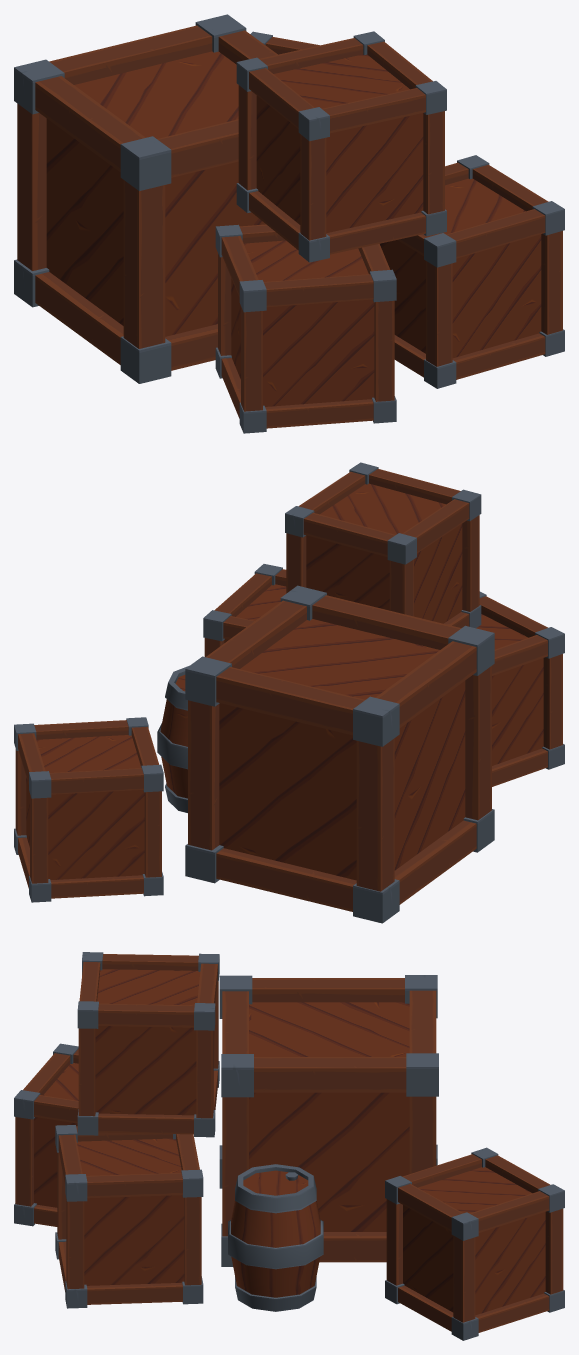
The model's file is CrateCluster1.fbx.
3 views of the same model, one above another, from view 1: azimuth 30°, elevation 25°; view 2: azimuth 150°, elevation 25°; view 3: azimuth 270°, elevation 25° (orthographic). The views are drawn at different scales.
Visible parts, largest first — view 1: Crate7; view 2: Crate7; view 3: Crate7.
Boxes of the visible parts, x1,y1,x2,y2 form: Crate7: (14,14,564,433); Crate7: (14,462,564,923); Crate7: (14,952,564,1340).
Size of the model in its own units: 346 by 254 by 483.
